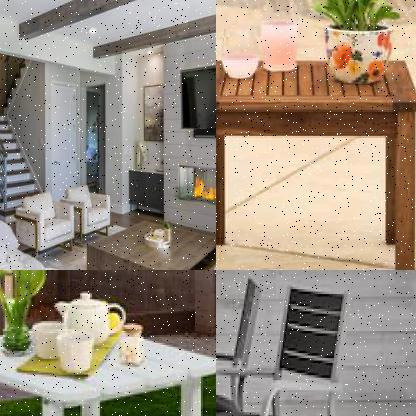table: (216, 50, 415, 269), (0, 306, 215, 415), (81, 213, 215, 269)
